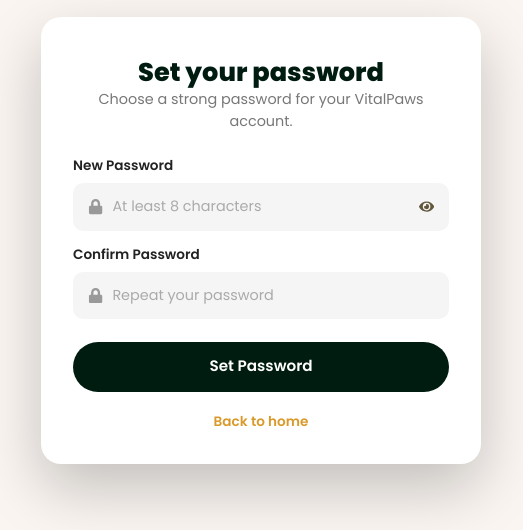
Test: ResetPassword — successful reset › shows success message after a valid reset
This screenshot has width=523, height=530.
Step 1. Type "Password1*" into the password field with placeholder "At least 8 characters" → (262, 207), box [112,184,411,230]
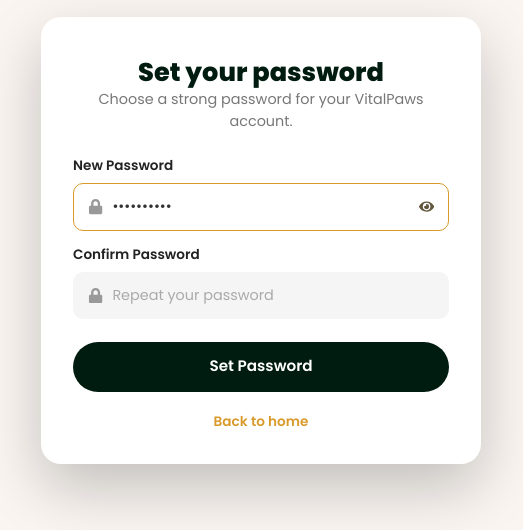
Step 2. Type "Password1*" into the password field with placeholder "Repeat your password" → (273, 296), box [112,273,434,318]
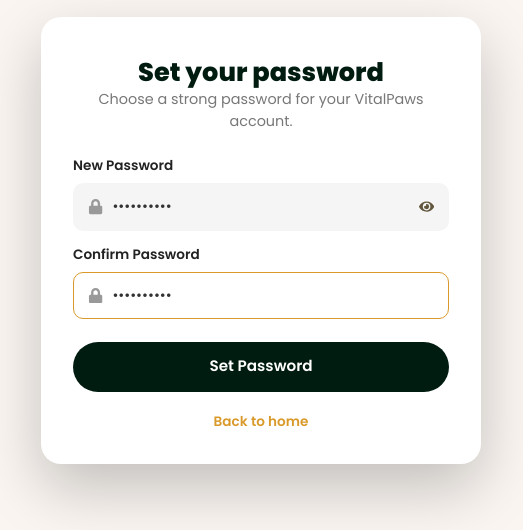
Step 3. Click the button "Set Password" → (261, 367), box [73,342,449,392]
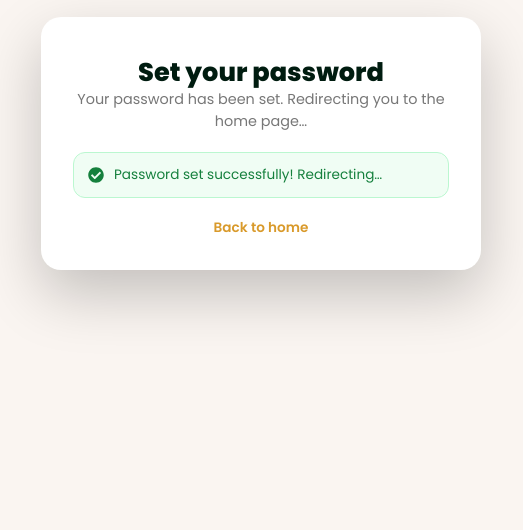
Expected: the text "Password set successfully! Redirecting…" is shown, [114,165,382,185]
